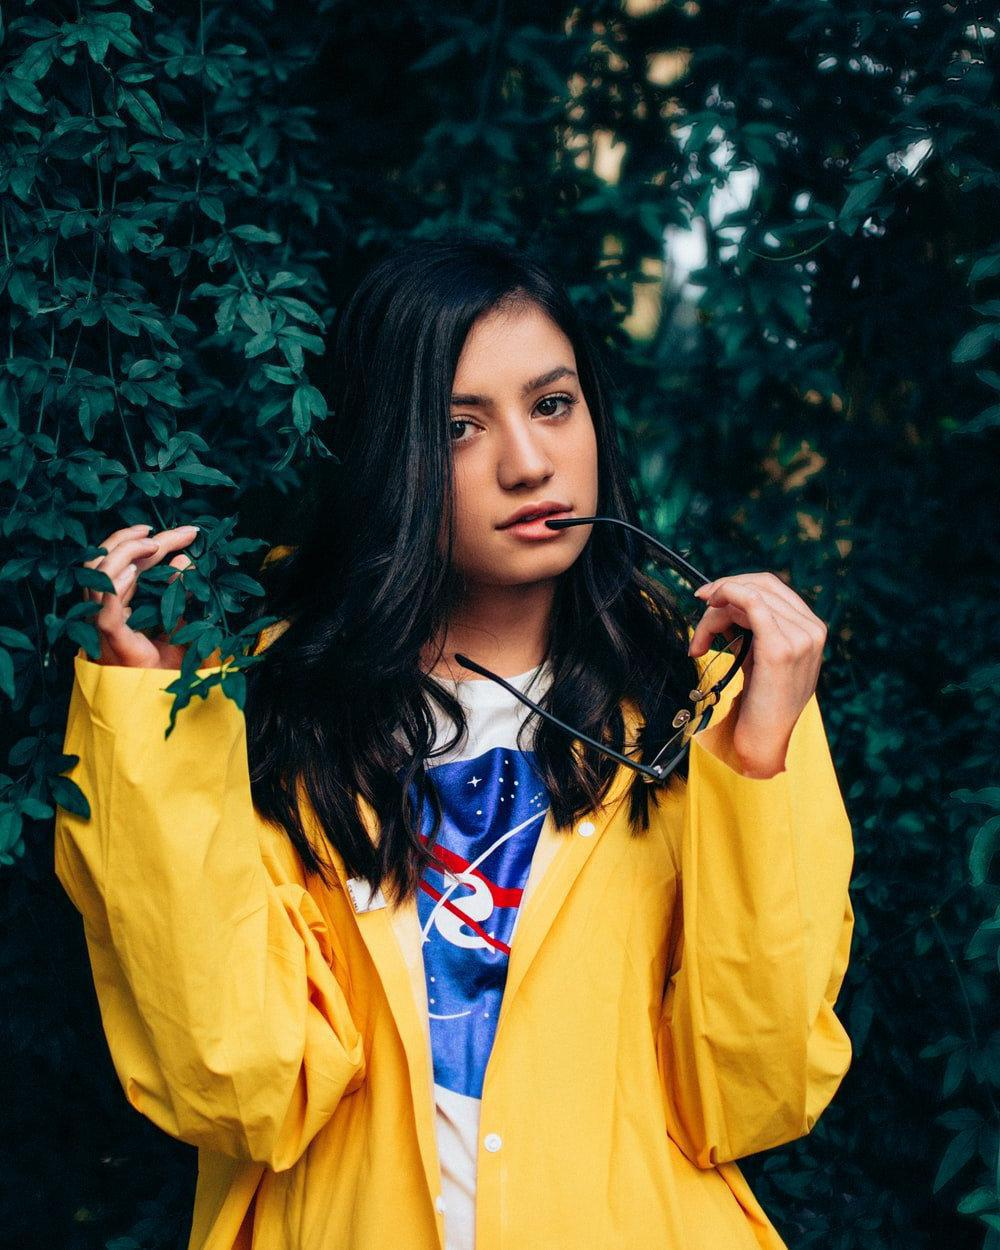Sober: (431, 296, 603, 559)
